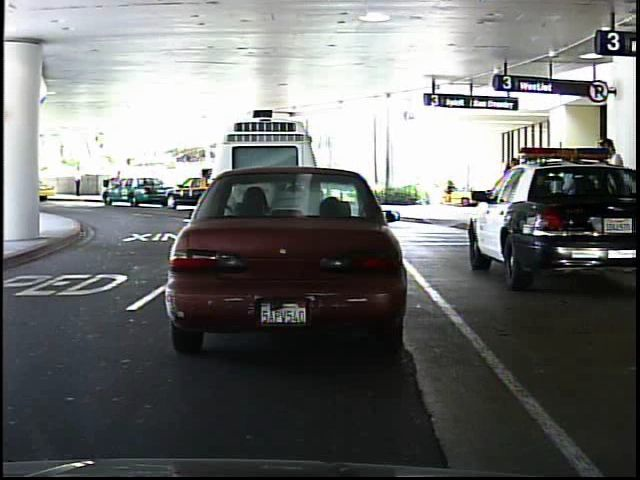person: (593, 133, 630, 254), (109, 166, 128, 202), (73, 162, 87, 197)
